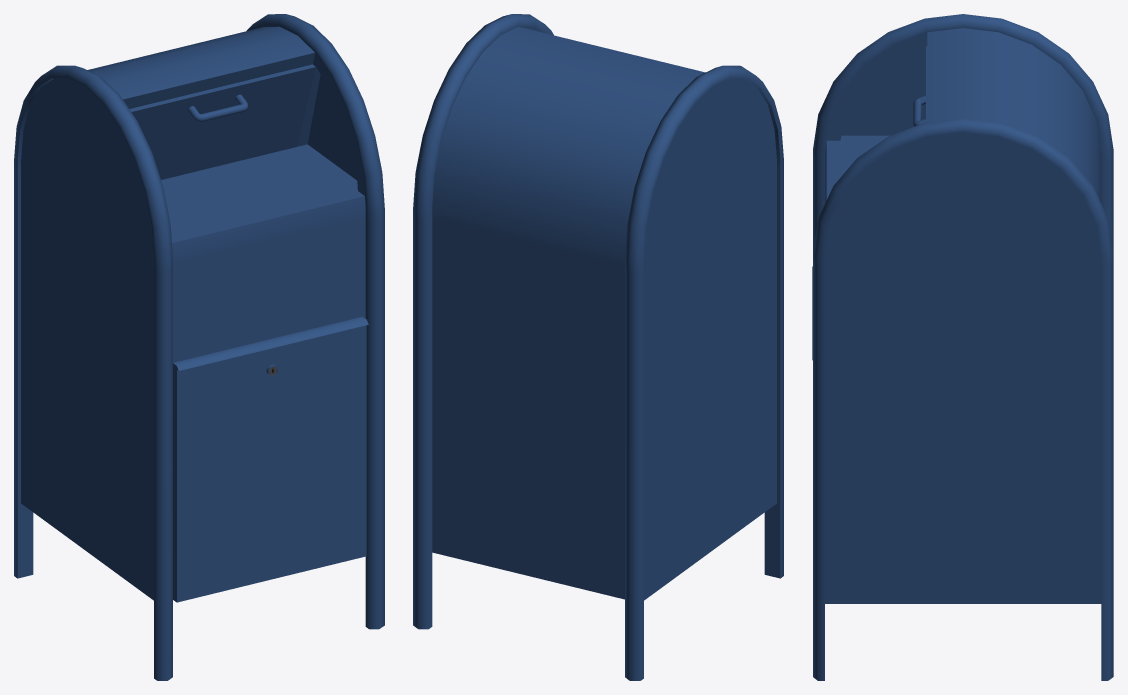
File: PublicMailboxUSA.glb
3 views of the same model, side by side, from view 1: azimuth 30°, elevation 25°; view 2: azimuth 150°, elevation 25°; view 3: azimuth 270°, elevation 25° (orthographic).
Parts seen in each view (by area): view 1: PublicMailBoxUSA; view 2: PublicMailBoxUSA; view 3: PublicMailBoxUSA.
Part boxes in pixels (box(x1,y1,x2,y2)): PublicMailBoxUSA: box(14, 14, 384, 680); PublicMailBoxUSA: box(413, 14, 783, 680); PublicMailBoxUSA: box(812, 14, 1113, 680).
Size of what is drawn, in the model's own units: 0.641 by 1.49 by 0.7257.
1 material, 1 textured.
